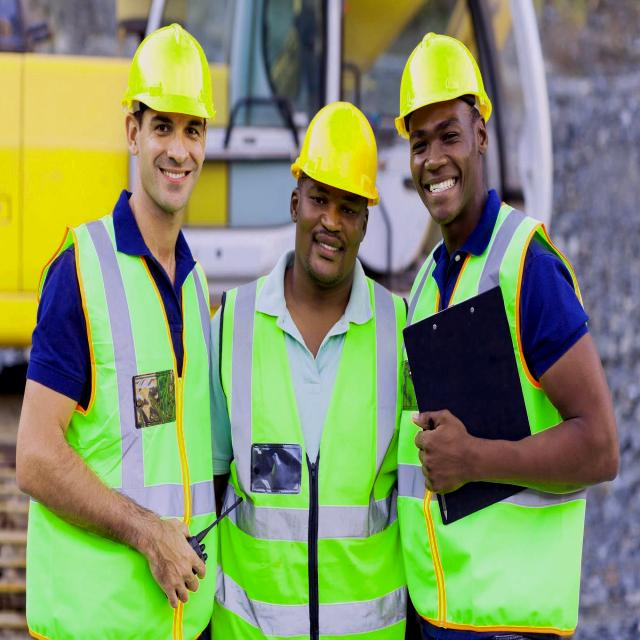face_nomask: (293, 174, 374, 278), (409, 110, 478, 228), (133, 107, 203, 218)
hand_noglove: (410, 403, 484, 505), (138, 507, 205, 616)
head_helmet: (396, 33, 493, 140), (122, 23, 217, 120), (291, 100, 381, 202)
person: (395, 30, 615, 640), (16, 29, 210, 640), (214, 112, 398, 640)
vest: (25, 211, 216, 639), (400, 200, 586, 635), (213, 266, 403, 640)
